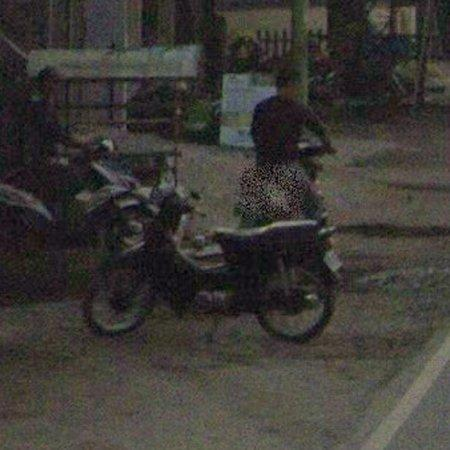motorcycles: (84, 167, 338, 342)
